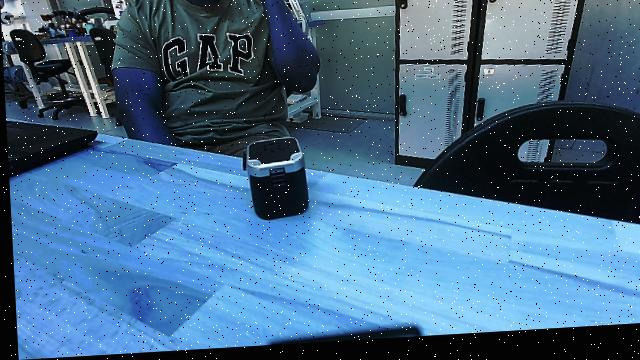adapter: (232, 137, 312, 226)
